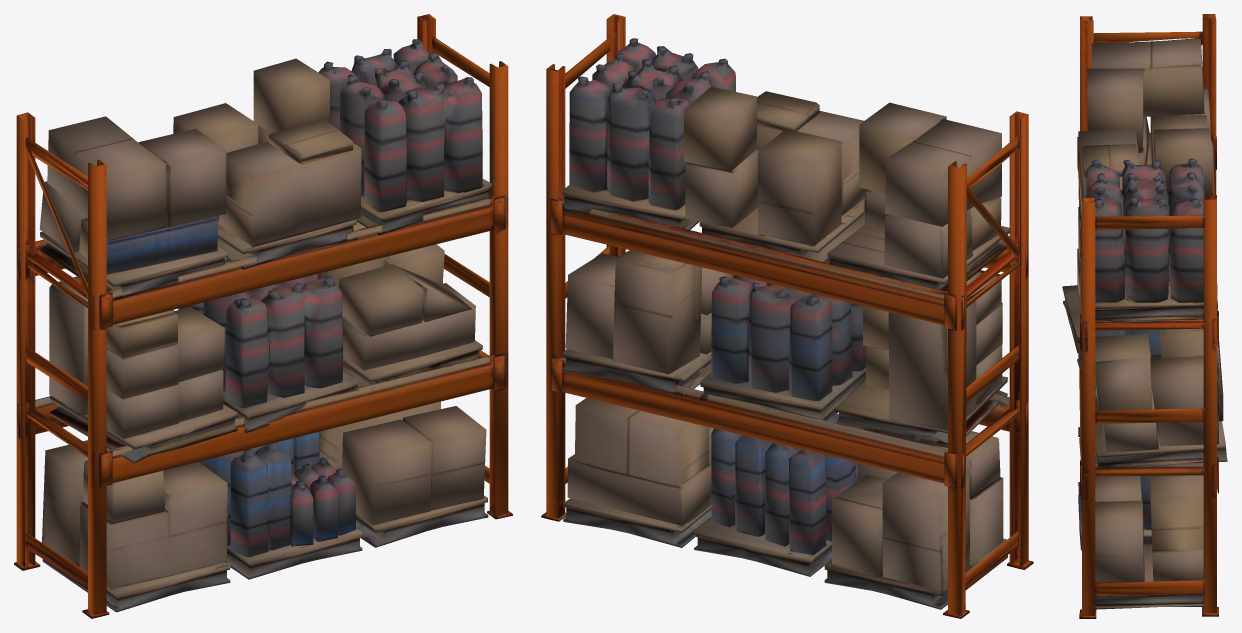
File: estante_pallets.glb
3 views of the same model, side by side, from view 1: azimuth 30°, elevation 25°; view 2: azimuth 150°, elevation 25°; view 3: azimuth 270°, elevation 25° (orthographic). The views are drawn at different scales.
Parts seen in each view (by area): view 1: Estante de pallets; view 2: Estante de pallets; view 3: Estante de pallets.
Part boxes in pixels (x1=…): Estante de pallets: x1=14, y1=14, x2=512, y2=618; Estante de pallets: x1=541, y1=14, x2=1033, y2=618; Estante de pallets: x1=1062, y1=14, x2=1227, y2=618.
Bounding box in the file's own units: 0.9863 × 0.998 × 0.3613.
1 material, 1 textured.
